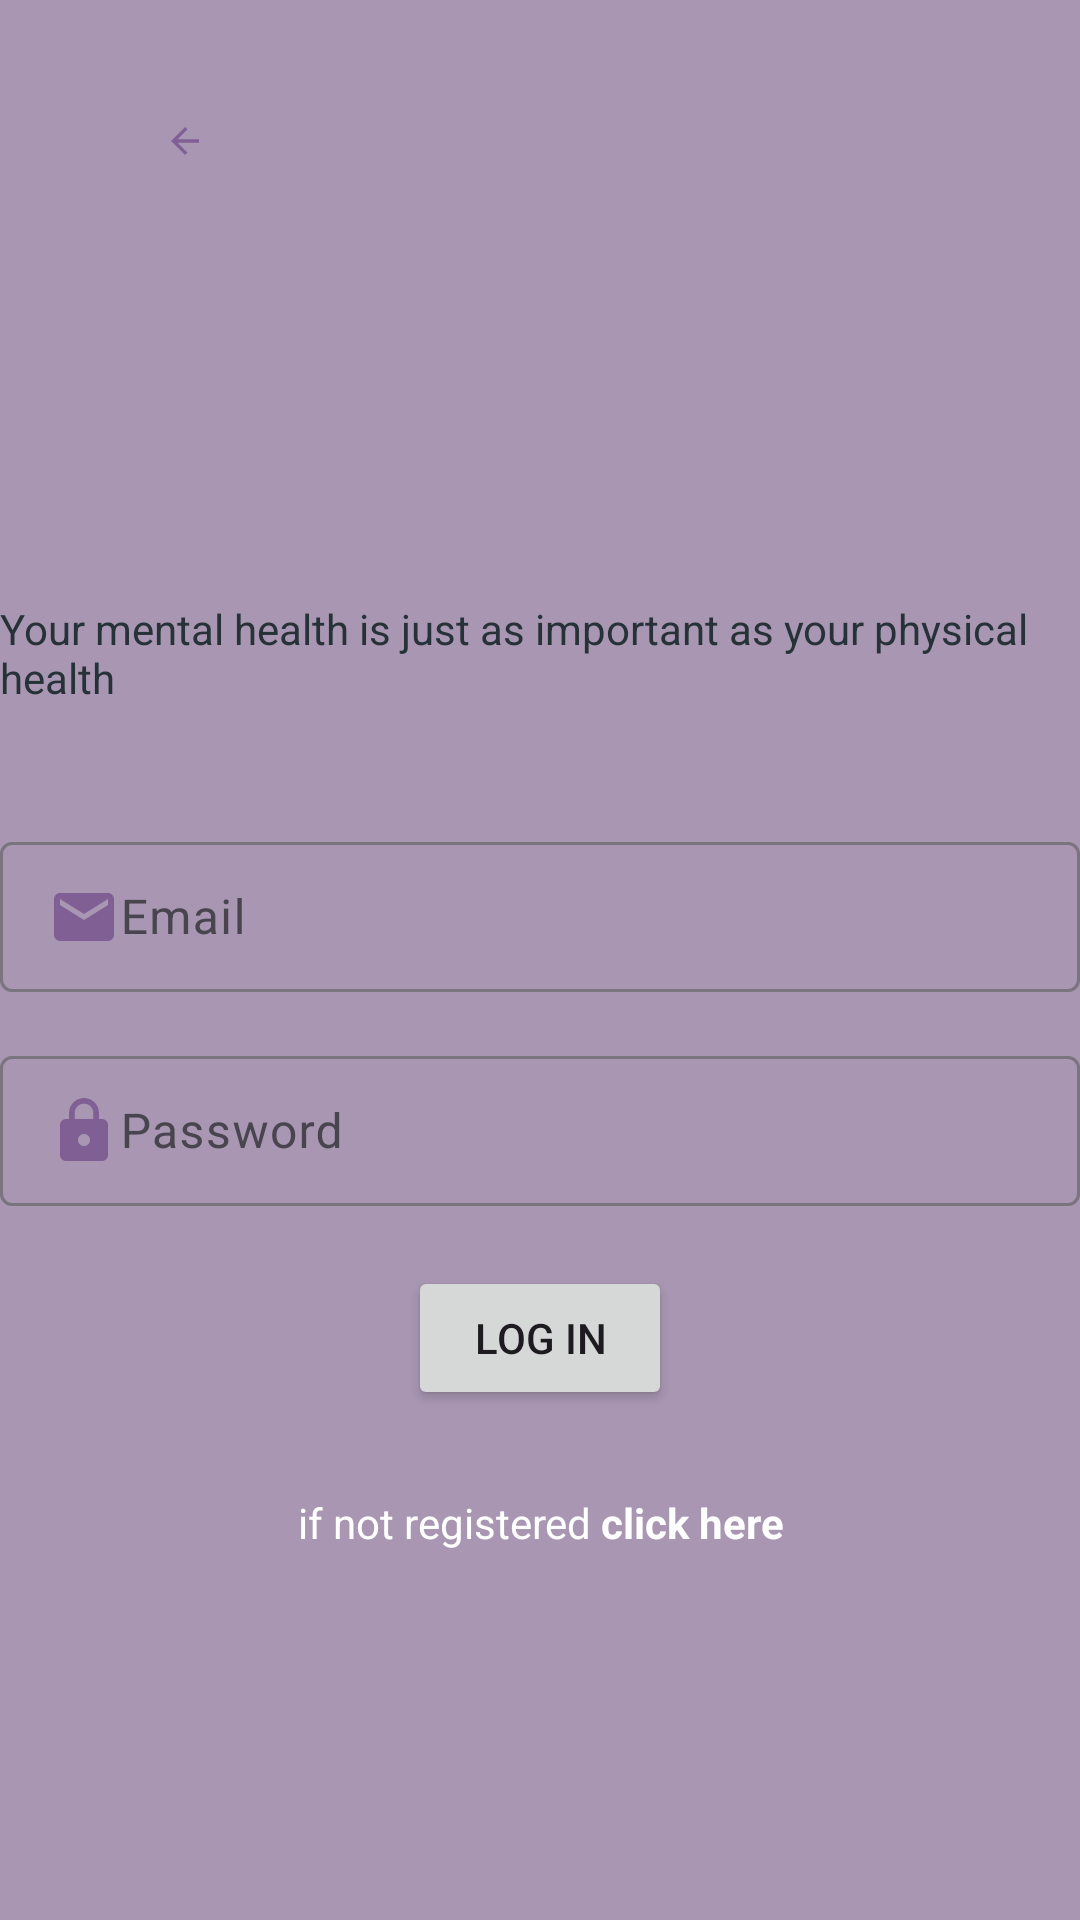

Icon bounding boxes for this 1080px×1920px phone screenshot, format (x1, y1, x2, y2):
back: (172, 127, 199, 154)
